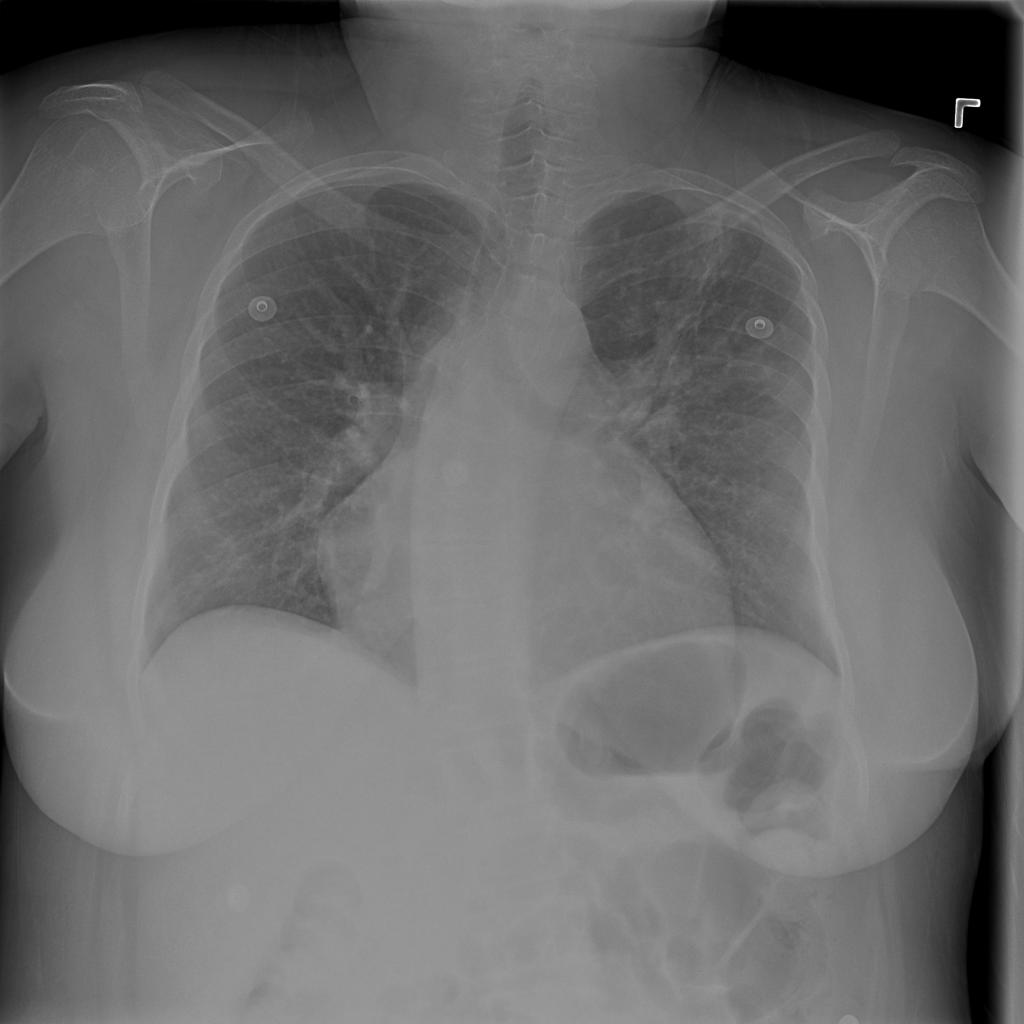Cardiomegaly: (326, 417, 739, 758)
